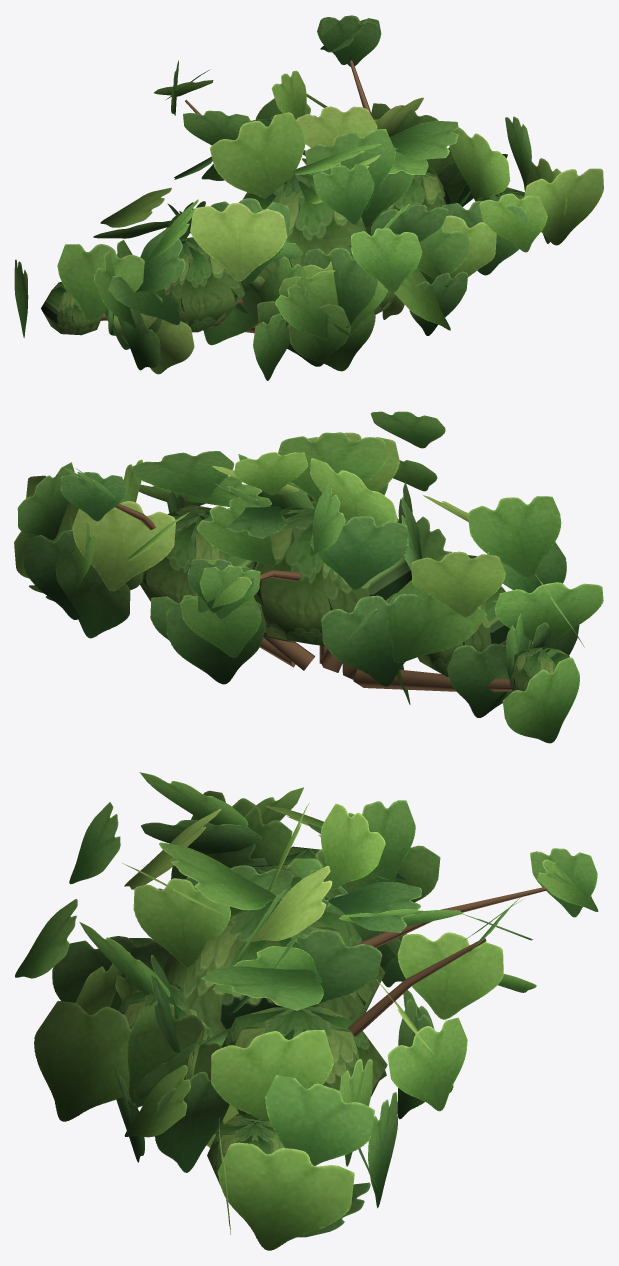
Rendered from shrub-b.glb.
3 views of the same model, one above another, from view 1: azimuth 30°, elevation 25°; view 2: azimuth 150°, elevation 25°; view 3: azimuth 270°, elevation 25° (orthographic). The views are drawn at different scales.
Parts seen in each view (by area): view 1: Leaves, Twigs; view 2: Leaves, Twigs; view 3: Leaves, Twigs.
Boxes of the visible parts, x1,y1,x2,y2 form: Leaves: (14, 15, 603, 380); Twigs: (101, 60, 371, 333); Leaves: (14, 411, 603, 743); Twigs: (115, 504, 512, 691); Leaves: (15, 772, 598, 1250); Twigs: (347, 887, 547, 1036).
Bounding box in the file's own units: 2 × 0.8117 × 1.35.
Materials: 2 (1 with a texture image).
